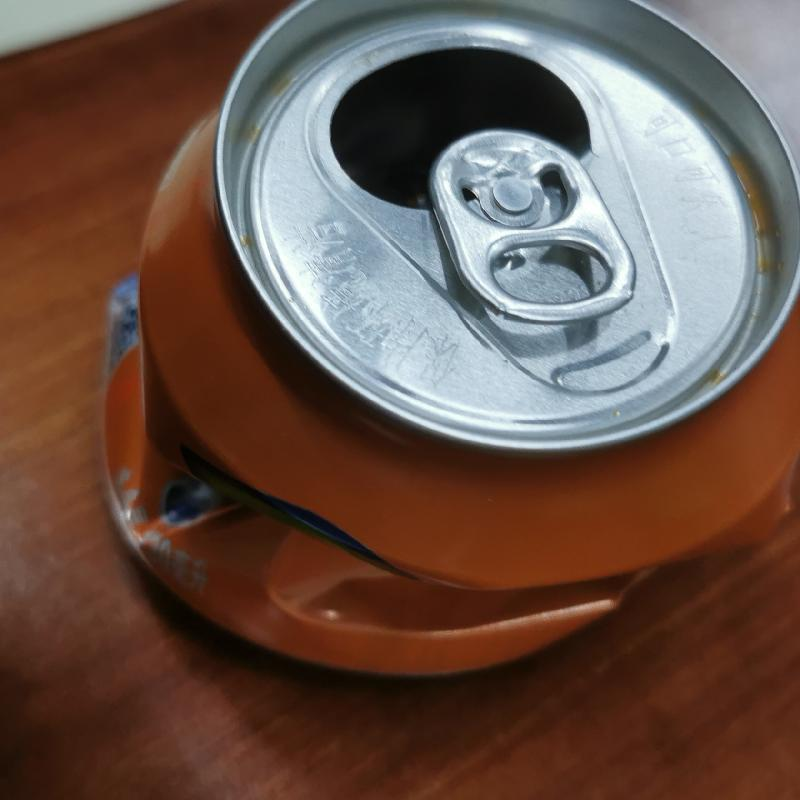cans: (99, 1, 800, 681)
